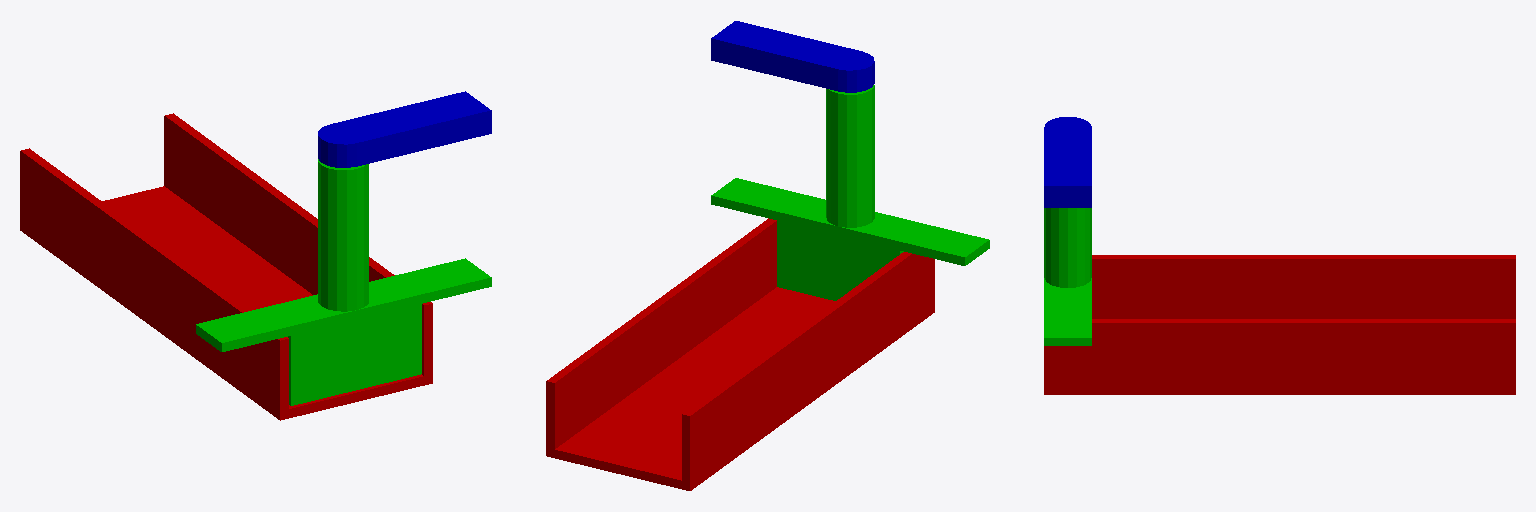
URDF robot description (turret_bot):
<?xml version="1.0"?>
<robot name="turret_bot">
    <link name="base">
        <visual>
            <geometry>
                <mesh filename="package://turret_bot/meshes/base.stl" scale="1 1 1"/>
            </geometry> 
            <material name="red">
                <color rgba="0.8 0 0 1"/>    
            </material>  
        </visual>
        <collision>
            <geometry>
                <mesh filename="package://turret_bot/meshes/base.stl" scale="1 1 1"/>
            </geometry> 
        </collision>
        <inertial>
            <origin xyz="0 0.5 0" rpy="0 0 0"/>
            <mass value="16"/>
            <inertia ixx="1.376" ixy="0" ixz="0" iyy="0.317" iyz="0" izz="1.607"/>
        </inertial>
    </link>
    <link name="slider">
        <visual>
            <geometry>
                <mesh filename="package://turret_bot/meshes/slider.stl" scale="1 1 1"/>
            </geometry>    
            <material name = "green">
                <color rgba="0 0.8 0 1"/>    
            </material>  
        </visual>
        <collision>
            <geometry>
                <mesh filename="package://turret_bot/meshes/slider.stl" scale="1 1 1"/>
            </geometry>
        </collision>
        <inertial>
            <origin xyz="0 0.05 0.165" rpy="0.0 0.0 0.0"/>
            <mass value="9.8075"/>
            <inertia ixx="0.15206" ixy="0.0" ixz="0.0" iyy="0.2293" iyz="0.0" izz="0.09238"/>
        </inertial>
    </link>
    <link name="rotor">
        <visual>
            <geometry>
                <mesh filename="package://turret_bot/meshes/rotor.stl" scale="1 1 1"/>
            </geometry>
            <material name = "blue">
                <color rgba="0 0 0.8 1"/>    
            </material>      
        </visual>
        <collision>
            <geometry>
                <mesh filename="package://turret_bot/meshes/rotor.stl" scale="1 1 1"/>
            </geometry>
        </collision>
        <inertial>
            <origin xyz="0.13 0 0.03" rpy="0.0 0.0 0.0"/>
            <mass value="2.114"/>
            <inertia ixx="0.00215" ixy="0.0" ixz="0.0" iyy="0.02074" iyz="0.0" izz="0.02201"/>
        </inertial>
        
    </link>

    <joint name="j1" type="prismatic">
        <origin xyz="0 0 0" rpy="0 0 0"/>
        <axis xyz="0 1 0"/>
        <limit lower="0" upper="1" effort="1000" velocity="50"/>
        <parent link="base"/>
        <child link="slider"/>
        <dynamics damping="0.001" friction="0.001"/>
    </joint>
    <joint name="j2" type="revolute">
        <origin xyz="0 0.05 0.475" rpy="0.0 0.0 0.0"/>
        <axis xyz="0 0 1"/>
        <limit lower="-3.14" upper="3.14" effort="1000" velocity="50"/>
        <parent link="slider"/>
        <child link="rotor"/>
        <dynamics damping="0.001" friction="0.001"/>
    </joint>
    <gazebo reference="base">
        <material>Gazebo/Green</material>
    </gazebo>
    <gazebo reference="slider">
        <material>Gazebo/Red</material>
    </gazebo>
    <gazebo reference="rotor">
        <material>Gazebo/Blue</material>
    </gazebo>

    <transmission name = "t1">
        <type>transmission_interface/SimpleTransmission</type>
        <joint name="j1">
            <hardwareInterface>hardware_interface/PositionJointInterface</hardwareInterface>
        </joint>
        <actuator name="a1">
            <mechanicalReduction>1</mechanicalReduction>
        </actuator>
    </transmission>
    <transmission name = "t2">
        <type>transmission_interface/SimpleTransmission</type>
        <joint name="j2">
            <hardwareInterface>hardware_interface/PositionJointInterface</hardwareInterface>
        </joint>
        <actuator name="a2">
            <mechanicalReduction>1</mechanicalReduction>
        </actuator>
    </transmission>
    <gazebo>
        <plugin name = "gazebo_ros_control" filename="libgazebo_ros_control.so"/>
    </gazebo>
</robot>

--- Facts derived from the render (not from the file) ---
The picture shows the robot from 3 angles, left to right: view 1: azimuth 30°, elevation 25°; view 2: azimuth 150°, elevation 25°; view 3: azimuth 270°, elevation 25°; orthographic projection.
Robot: turret_bot — 3 links, 2 joints (1 revolute, 1 prismatic); root link base; default pose: all joints at 0.
Links seen in each view (by area): view 1: base, slider, rotor; view 2: base, slider, rotor; view 3: base, slider, rotor.
Link boxes in pixels (box(x1,y1,x2,y2)): base: box(20, 113, 432, 420); slider: box(196, 159, 491, 405); rotor: box(318, 91, 491, 167); base: box(546, 218, 934, 490); slider: box(711, 85, 989, 300); rotor: box(711, 21, 874, 92); base: box(1044, 255, 1515, 394); slider: box(1044, 208, 1091, 345); rotor: box(1044, 117, 1091, 207).
Size in the robot's own frame: 0.6 by 1 by 0.55 metres.
Meshes: 3 distinct files referenced, 3 mesh visuals loaded (3 binary STL).